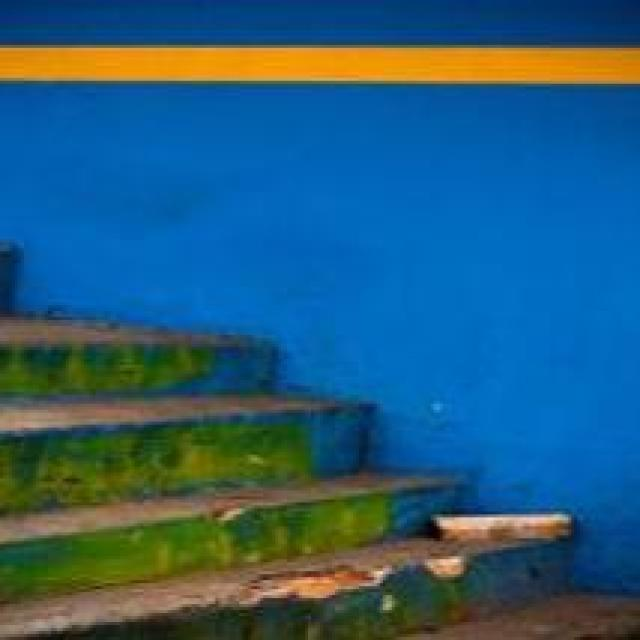Stairs: (2, 283, 552, 601)
